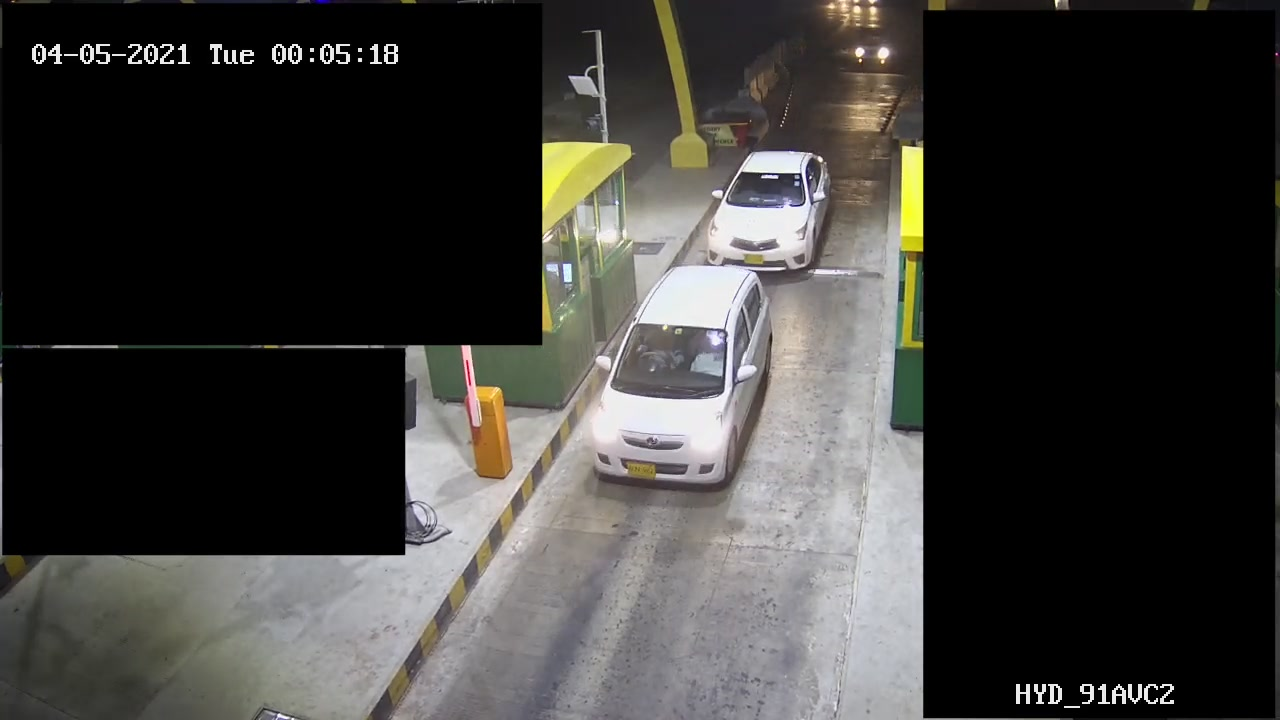F1: (594, 264, 769, 498), (697, 149, 838, 277)
